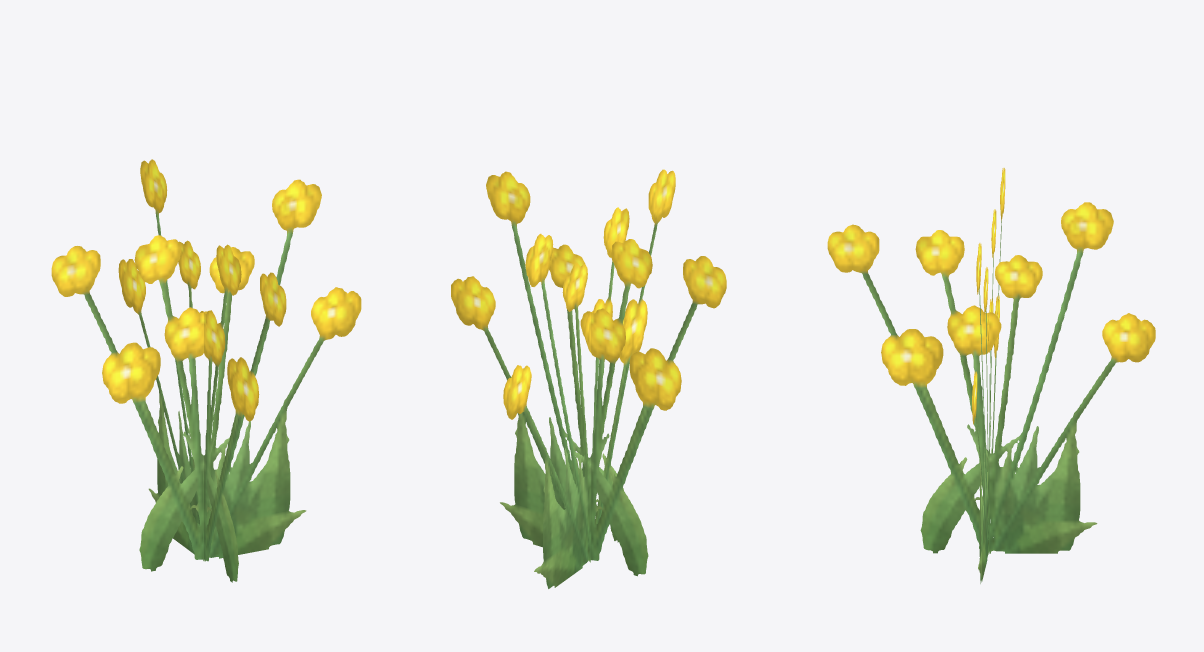
The model's file is flower_buttercup.glb.
3 renders of one model, left to right at view 1: azimuth 30°, elevation 25°; view 2: azimuth 150°, elevation 25°; view 3: azimuth 270°, elevation 25°, orthographic. The views are drawn at different scales.
Parts seen in each view (by area): view 1: flower_buttercup; view 2: flower_buttercup; view 3: flower_buttercup.
Part boxes in pixels (x1,y1,x2,y2): flower_buttercup: [51, 159, 361, 582]; flower_buttercup: [451, 169, 726, 588]; flower_buttercup: [827, 168, 1155, 583].
Bounding box in the file's own units: 0.1592 × 0.2 × 0.16.
1 material, 1 textured.
